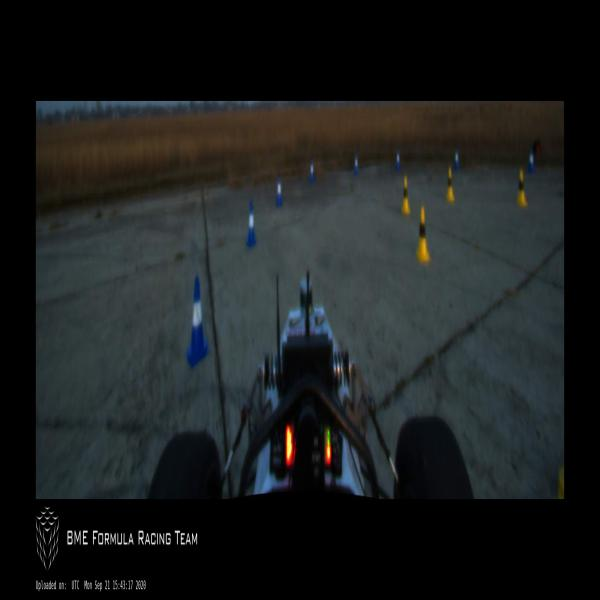blue_cone: (186, 276, 209, 366), (246, 202, 256, 247), (276, 176, 282, 207), (528, 150, 535, 174), (309, 160, 315, 184), (454, 147, 460, 170), (354, 153, 358, 175), (396, 149, 400, 170)
yellow_cone: (416, 206, 430, 262), (517, 169, 527, 207), (402, 176, 410, 215), (446, 168, 455, 202)
